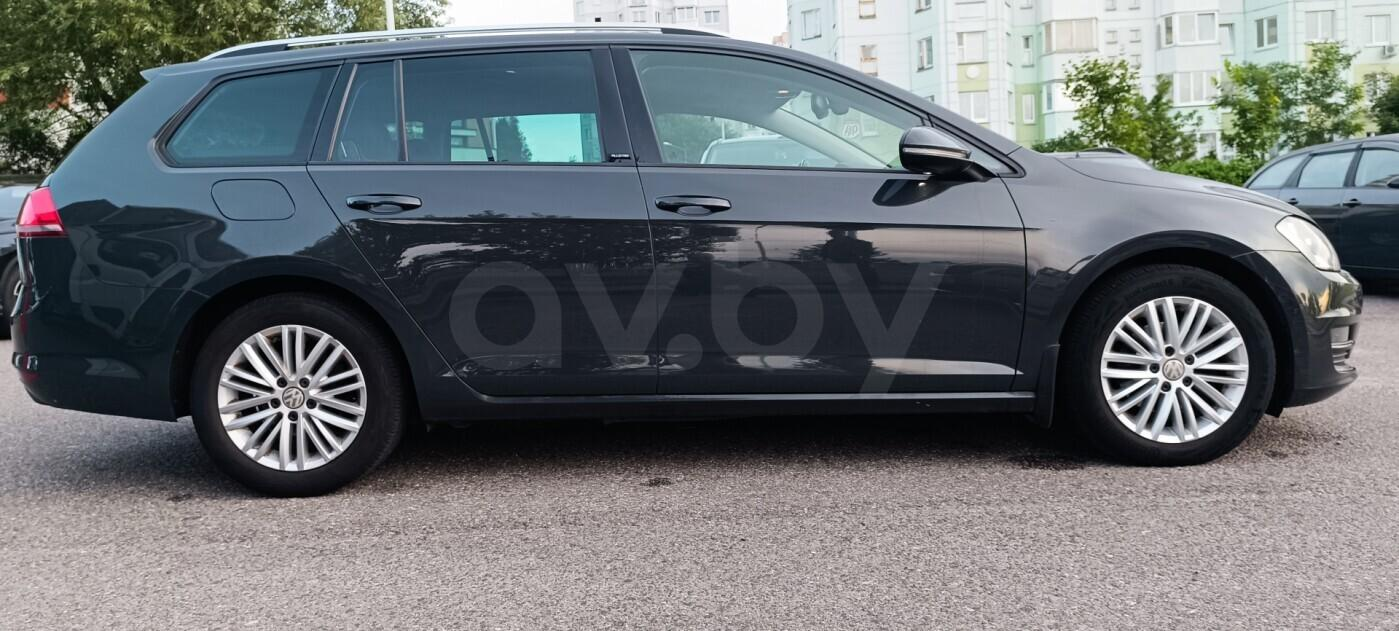Golf_2012-2017: (4, 35, 1365, 487)
